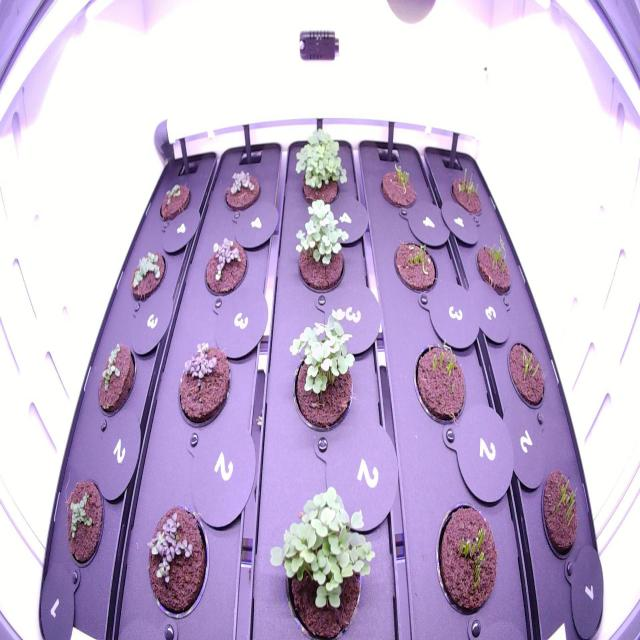germination: (266, 480, 378, 637), (431, 485, 502, 624), (143, 490, 213, 627), (286, 309, 360, 438), (170, 326, 237, 432), (287, 196, 354, 300), (410, 333, 470, 432), (55, 469, 109, 574), (292, 120, 352, 212), (535, 460, 584, 568), (196, 220, 251, 309), (500, 328, 550, 421), (92, 333, 140, 422), (390, 229, 440, 300), (471, 228, 518, 301), (444, 157, 492, 226), (126, 237, 170, 309), (376, 152, 422, 218), (218, 158, 266, 220), (153, 172, 194, 228)
